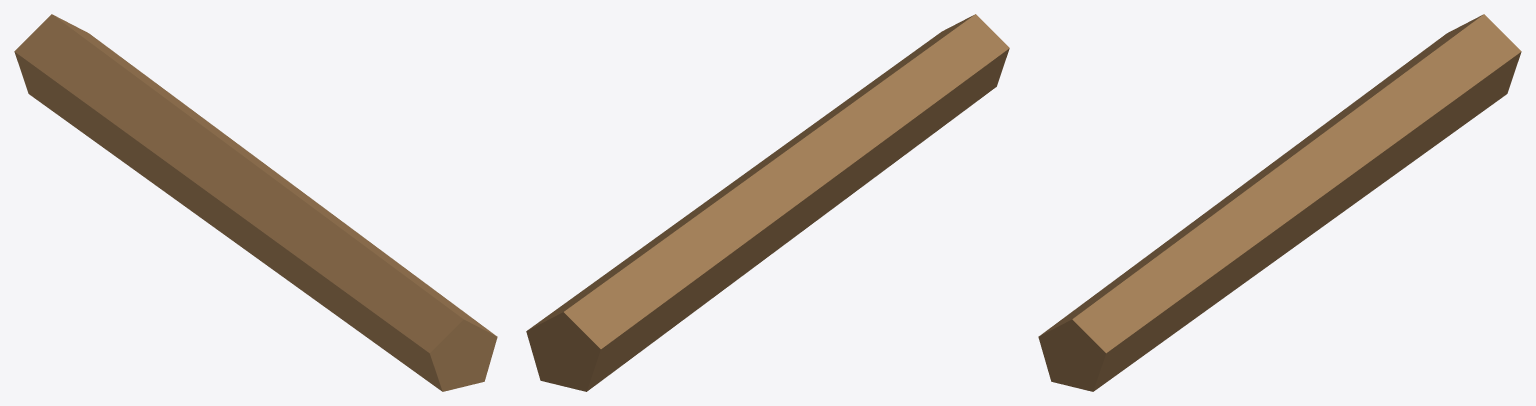
The model's file is Fence_Rail.fbx.
The picture shows the model from 3 angles, left to right: view 1: azimuth 30°, elevation 25°; view 2: azimuth 150°, elevation 25°; view 3: azimuth 330°, elevation 25°; orthographic projection.
Visible parts, largest first — view 1: Fence_Rail_EXP; view 2: Fence_Rail_EXP; view 3: Fence_Rail_EXP.
Boxes of the visible parts, box(x1,y1,x2,y2) form: Fence_Rail_EXP: box(14, 14, 497, 391); Fence_Rail_EXP: box(526, 14, 1009, 391); Fence_Rail_EXP: box(1038, 14, 1521, 391).
Bounding box in the file's own units: 0.1046 × 0.0995 × 1.
